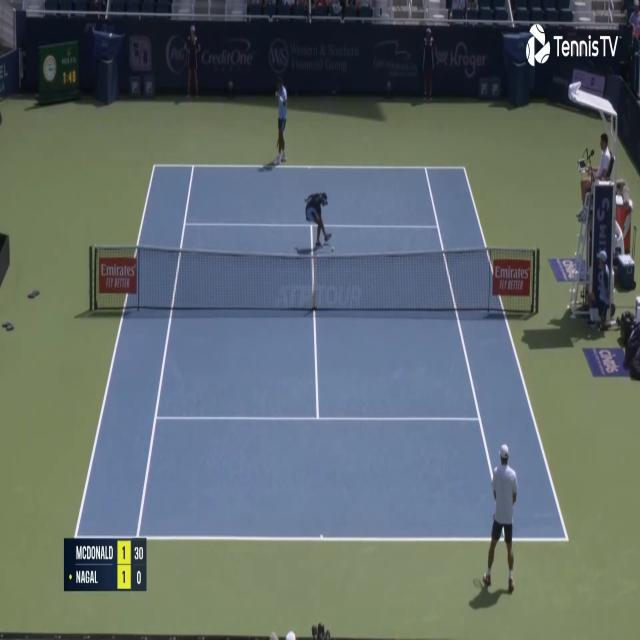tennis-player: (479, 440, 520, 599), (271, 73, 289, 167)
